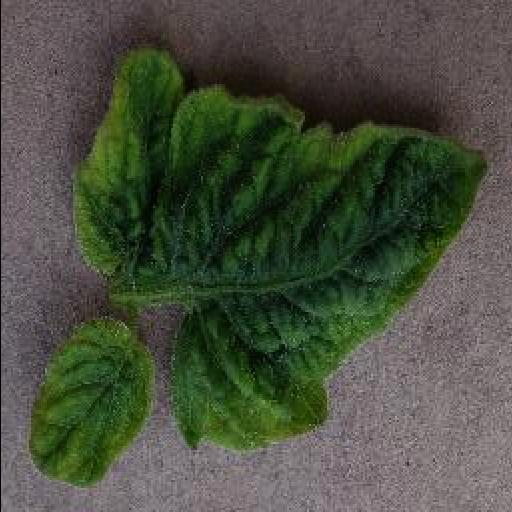disease_tomato: (69, 46, 491, 454), (27, 315, 157, 489)
